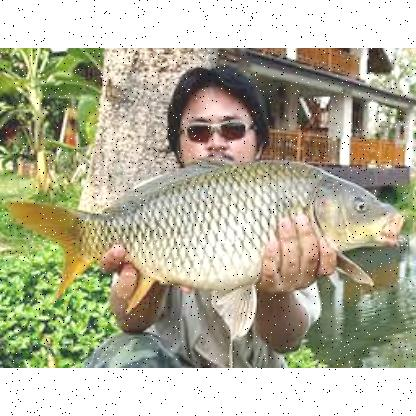ikan-mas: (20, 154, 402, 304)
